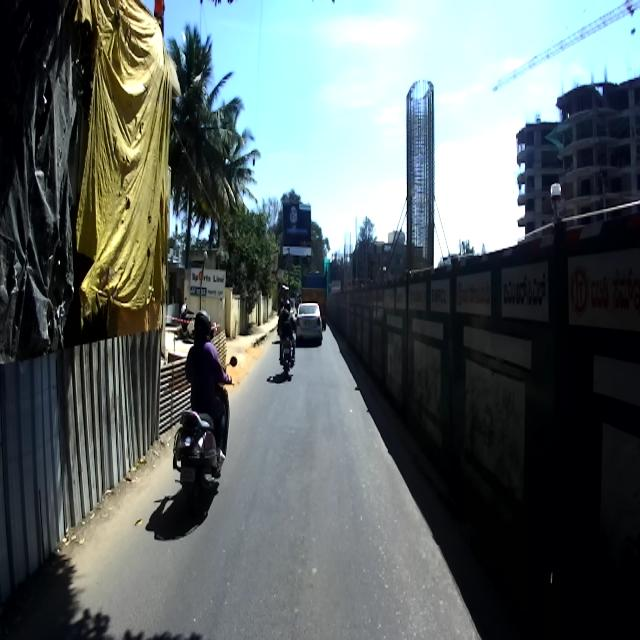motorcycle ahead at: (174, 406, 241, 503)
